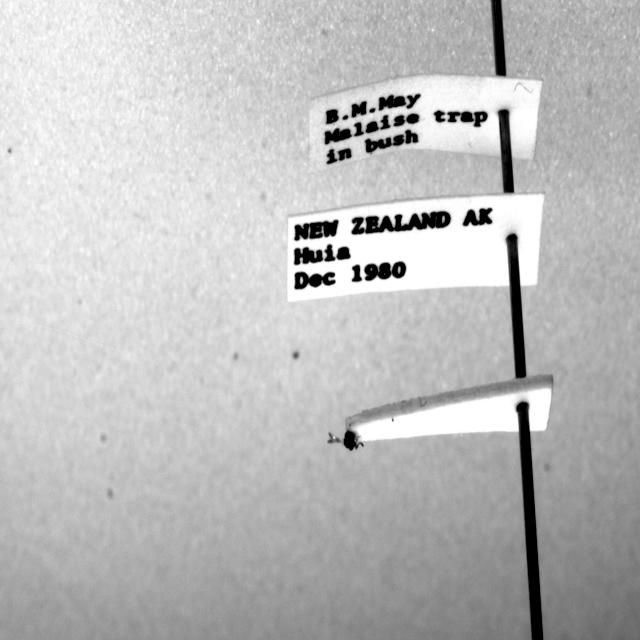typed_label: (288, 193, 544, 302), (309, 75, 542, 172)
